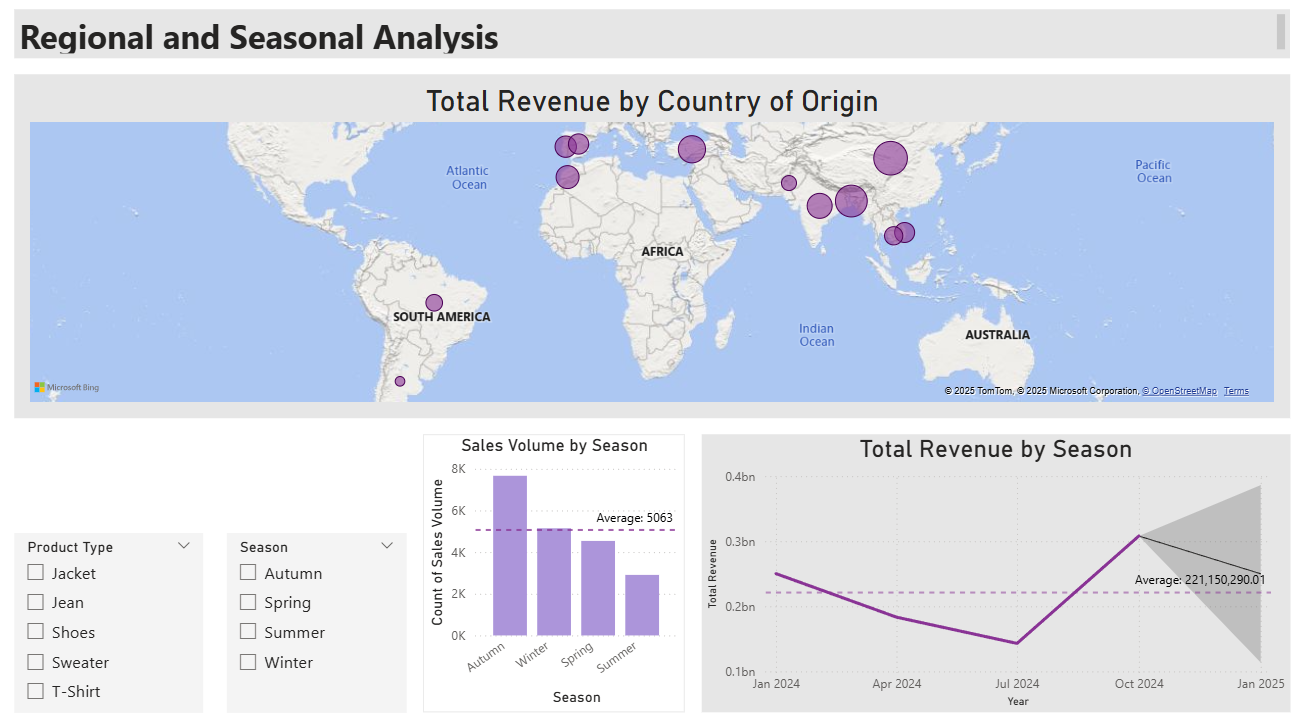

Layout of this report page (visuals, bound fields, positions):
{"tool":"powerbi","page":{"name":"Regional Analysis","canvas":[1280,720],"ordinal":1},"visuals":[{"type":"map","title":"Total Revenue by Country of Origin","fields":{"Size":["Fact_Sales.Total Revenue"],"Category":["Dim_Product.Origin"]},"box":[16,80,1248,336],"z":0},{"type":"slicer","fields":{"Values":["Fact_Sales.Product Type"]},"box":[16,528,185,176],"z":1000},{"type":"lineChart","title":"Total Revenue by Season","fields":{"Category":["Fact_Sales.Season Date.Variation.Date Hierarchy.Year","Fact_Sales.Season Date.Variation.Date Hierarchy.Quarter","Fact_Sales.Season Date.Variation.Date Hierarchy.Month","Fact_Sales.Season Date.Variation.Date Hierarchy.Day"],"Y":["Fact_Sales.Total Revenue"]},"box":[688,432,576,272],"z":2000},{"type":"textbox","box":[16,16,1248,48],"z":3000},{"type":"clusteredColumnChart","title":"Sales Volume by Season","fields":{"Category":["Fact_Sales.Season"],"Y":["CountNonNull(Fact_Sales.Sales Volume)"]},"box":[416,432,256,272],"z":4000},{"type":"slicer","fields":{"Values":["Fact_Sales.Season"]},"box":[224,528,176,176],"z":5000}]}

Visuals, with their boxes in screenshot pixels (x1, y1, x2, y2), scaled from the page's 1280x720 canvas onto the 1303x722 screenshot:
"Total Revenue by Country of Origin" map: box=[16, 80, 1287, 417]
slicer - Fact_Sales.Product Type: box=[16, 529, 205, 706]
"Total Revenue by Season" lineChart: box=[700, 433, 1287, 706]
textbox: box=[16, 16, 1287, 64]
"Sales Volume by Season" clusteredColumnChart: box=[423, 433, 684, 706]
slicer - Fact_Sales.Season: box=[228, 529, 407, 706]
